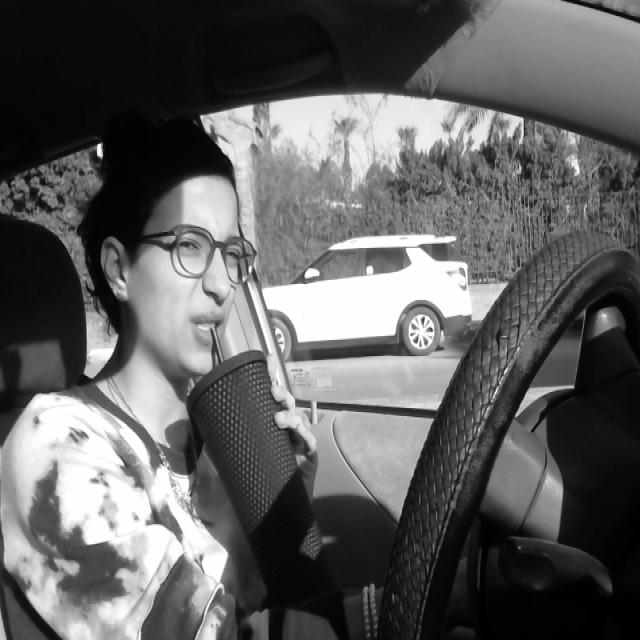drinking: (172, 316, 328, 614)
